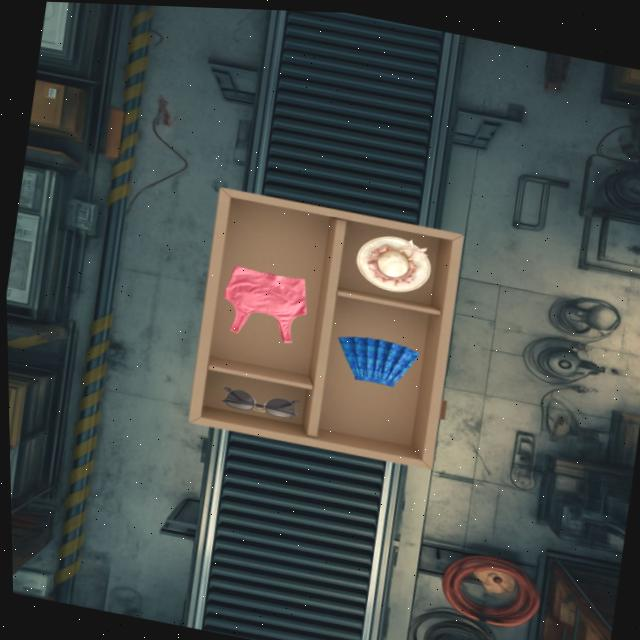hat: (357, 236, 431, 292)
skirt: (339, 337, 419, 387)
sunglasses: (222, 387, 299, 418)
top: (224, 267, 306, 343)
